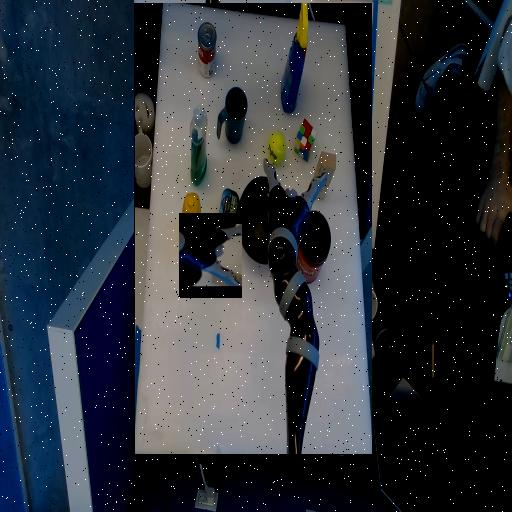bowl: (218, 194, 268, 279)
cleanser: (300, 271, 316, 351)
coffee_can: (176, 174, 214, 245)
jaco: (179, 224, 242, 286)
meat_can: (268, 214, 289, 267)
mug: (258, 326, 289, 356)
mustard_bottle: (306, 195, 324, 263)
rubik: (190, 295, 212, 338)
soup_can: (291, 379, 308, 434)
tennis_ball: (221, 300, 238, 317)
windex: (197, 394, 225, 416)
wooden_block: (170, 268, 195, 293)
workspace: (134, 3, 372, 454)
